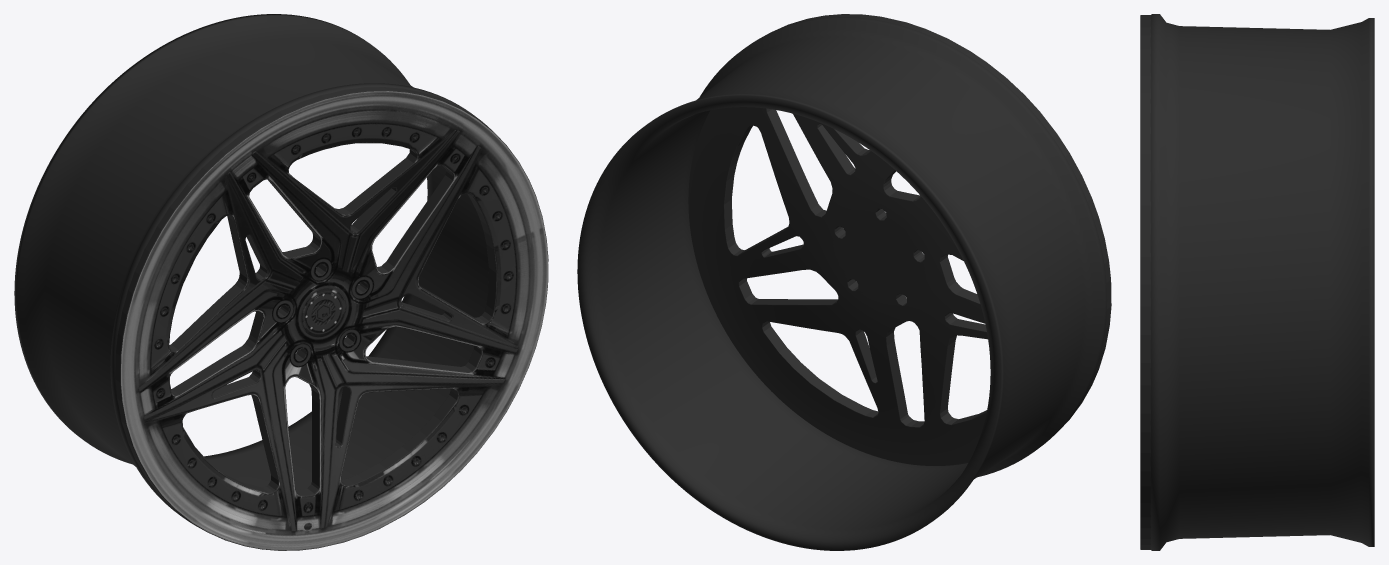
The model's file is e6-multipiece-gs6.glb.
3 renders of one model, left to right at view 1: azimuth 30°, elevation 25°; view 2: azimuth 150°, elevation 25°; view 3: azimuth 270°, elevation 25°, orthographic. The views are drawn at different scales.
Parts seen in each view (by area): view 1: Photo_traced_face_0, Approximate_rear_barrel; view 2: Approximate_rear_barrel, Photo_traced_face_0; view 3: Approximate_rear_barrel, Photo_traced_face_0.
Part boxes in pixels (left/top/right/bottom): Photo_traced_face_0: left=115, top=87, right=548, bottom=550; Approximate_rear_barrel: left=14, top=14, right=492, bottom=529; Approximate_rear_barrel: left=577, top=17, right=1107, bottom=550; Photo_traced_face_0: left=688, top=14, right=1111, bottom=465; Approximate_rear_barrel: left=1150, top=14, right=1374, bottom=550; Photo_traced_face_0: left=1140, top=15, right=1150, bottom=549.
Size of the model in its own units: 2.06 by 2.06 by 0.9.
Materials: 2 (1 with a texture image).
